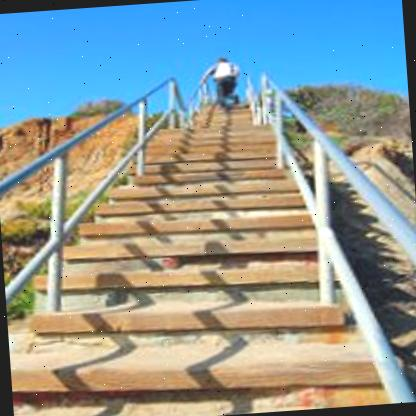stair: (68, 94, 301, 416)
